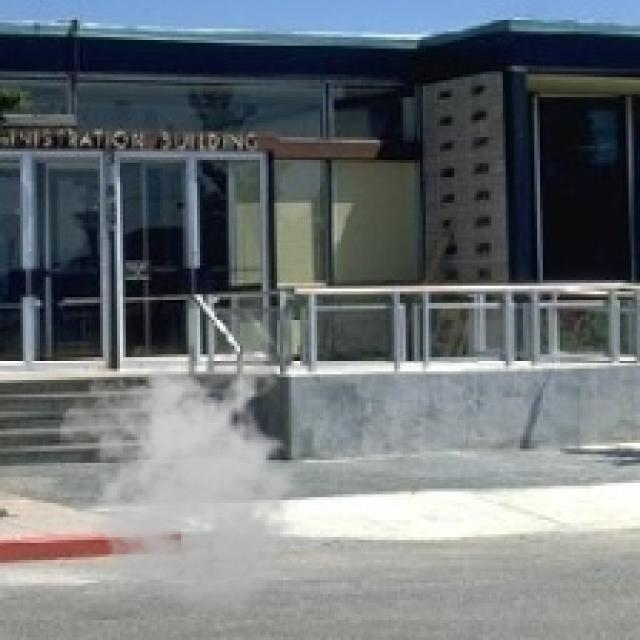smoke: (60, 346, 323, 617)
